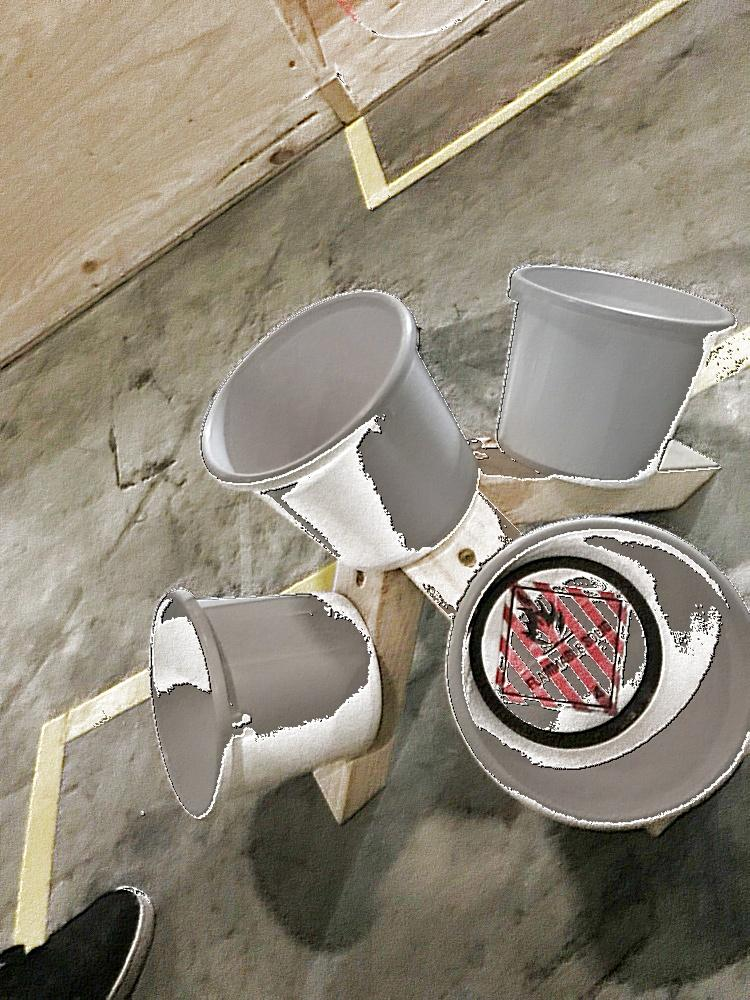flammable-solid: (493, 581, 632, 722)
